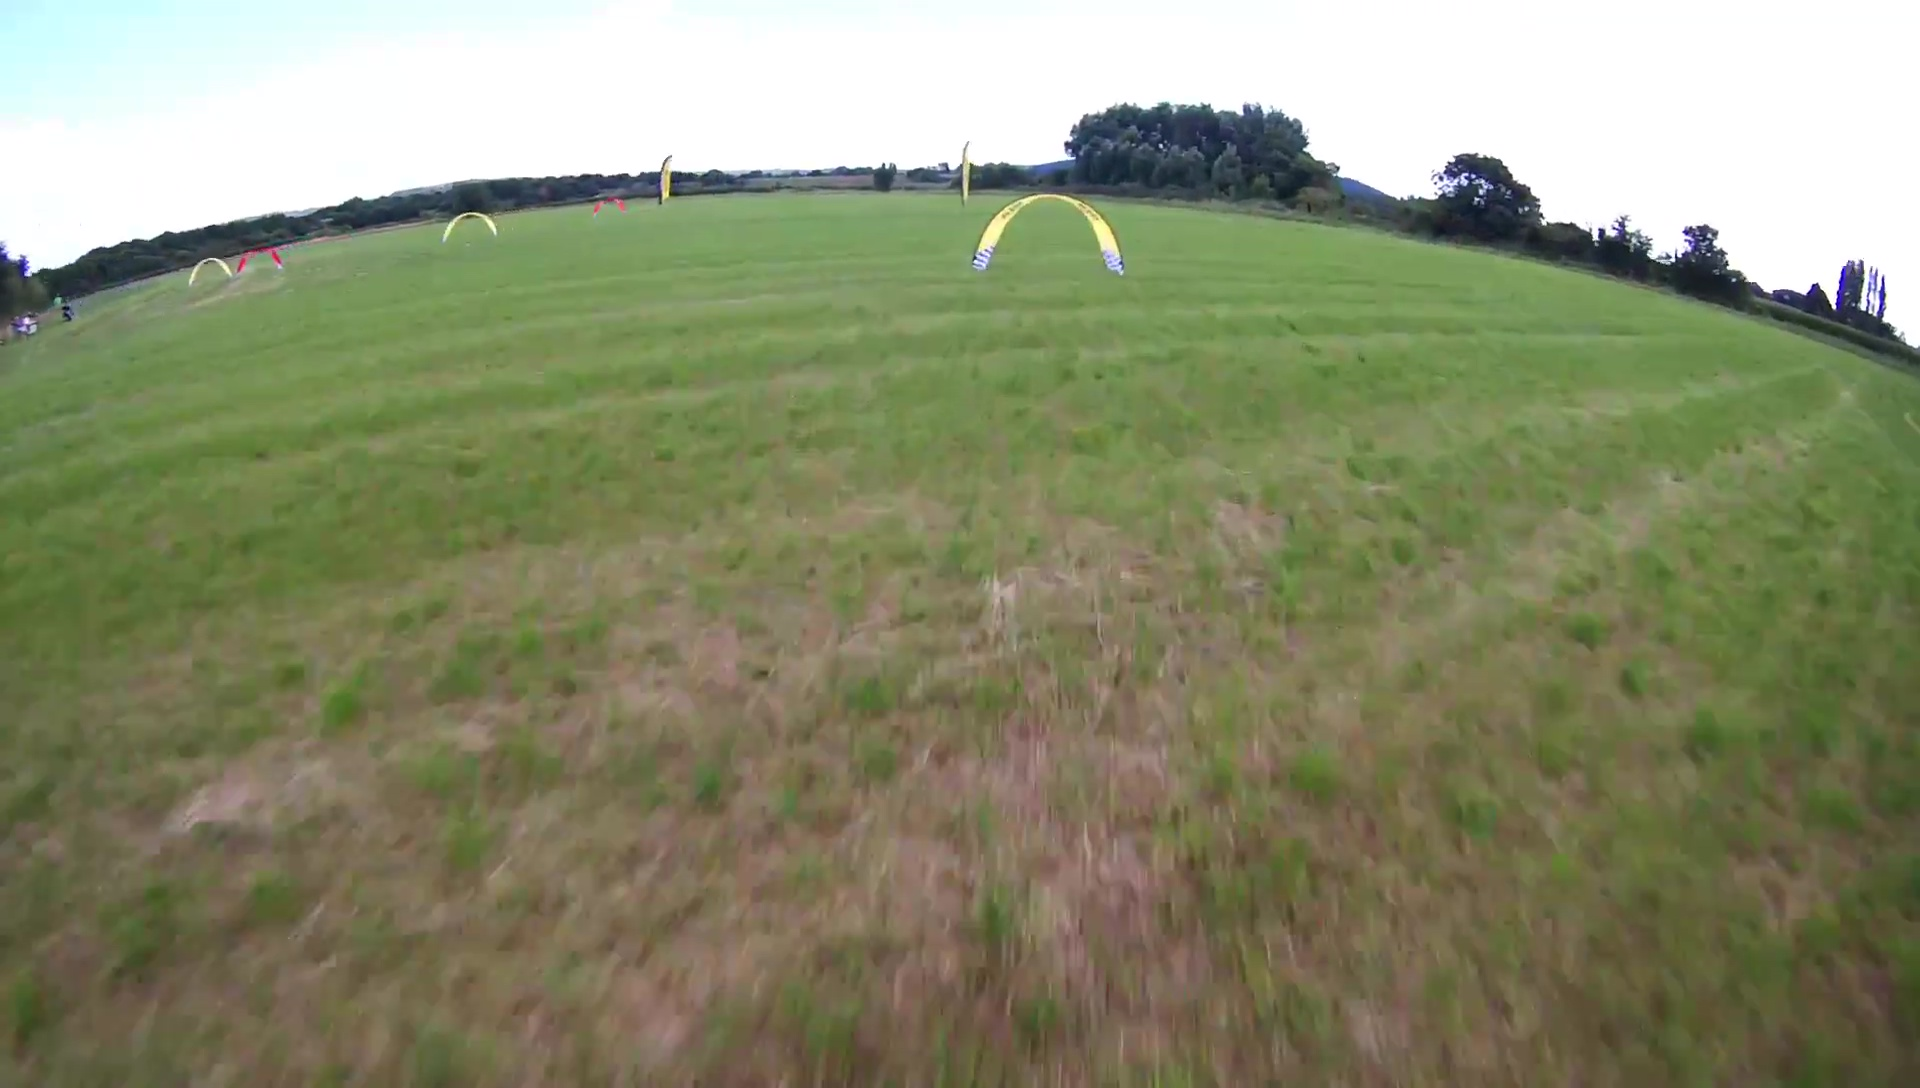gate: (971, 193, 1127, 276), (439, 211, 498, 243), (233, 245, 287, 276), (187, 255, 233, 286)
